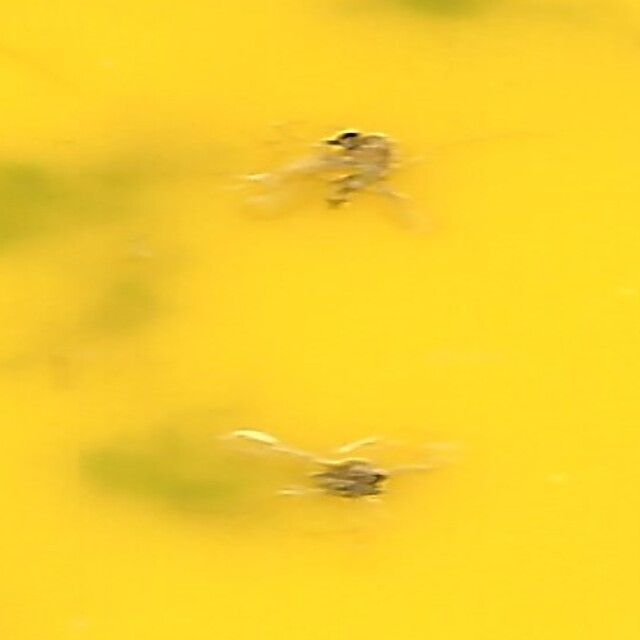Nematocera: (233, 423, 407, 511), (314, 129, 403, 215)
